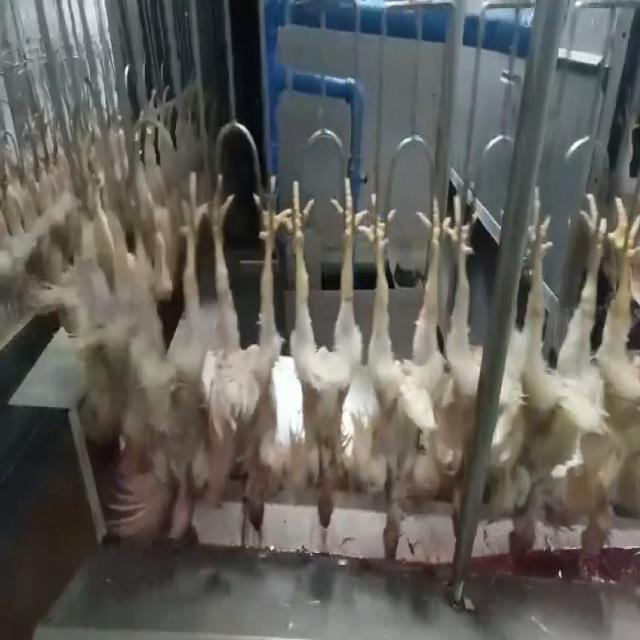chicken: (500, 192, 604, 518), (358, 182, 438, 573), (198, 160, 282, 505), (284, 169, 362, 530), (116, 174, 202, 486), (577, 180, 639, 578), (425, 186, 485, 484)
